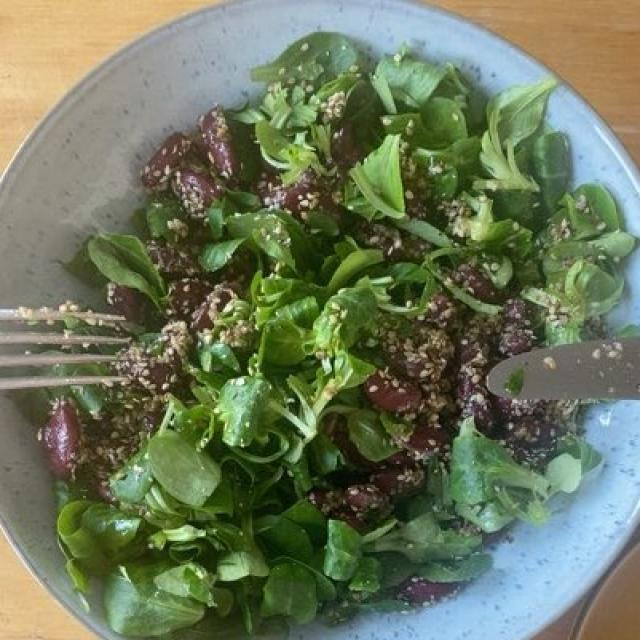beans: (54, 125, 563, 527)
salad: (59, 30, 614, 619)
sesame-seeds: (133, 155, 501, 474)
